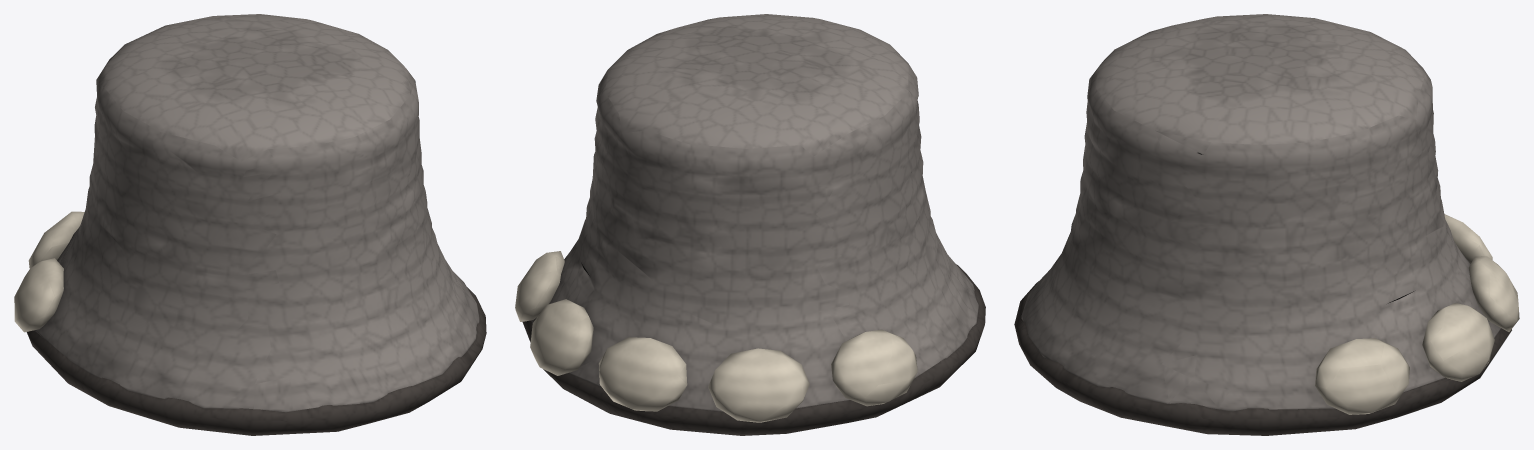
The model's file is cpart_foot_pillar.glb.
3 renders of one model, left to right at view 1: azimuth 30°, elevation 25°; view 2: azimuth 150°, elevation 25°; view 3: azimuth 270°, elevation 25°, orthographic. The views are drawn at different scales.
Visible parts, largest first — view 1: FootPillar, FootPillarSole, FootPillarNails; view 2: FootPillar, FootPillarNails, FootPillarSole; view 3: FootPillar, FootPillarNails, FootPillarSole.
Part boxes in pixels (bbox=[...]): FootPillar: bbox=[35, 14, 479, 412]; FootPillarSole: bbox=[26, 287, 486, 435]; FootPillarNails: bbox=[14, 211, 84, 332]; FootPillar: bbox=[531, 14, 978, 411]; FootPillarNails: bbox=[515, 251, 917, 422]; FootPillarSole: bbox=[522, 265, 985, 435]; FootPillar: bbox=[1021, 14, 1500, 411]; FootPillarNails: bbox=[1315, 214, 1519, 414]; FootPillarSole: bbox=[1014, 281, 1511, 435].
Bounding box in the file's own units: 0.1451 × 0.1016 × 0.1597.
Materials: 3 (3 with a texture image).
